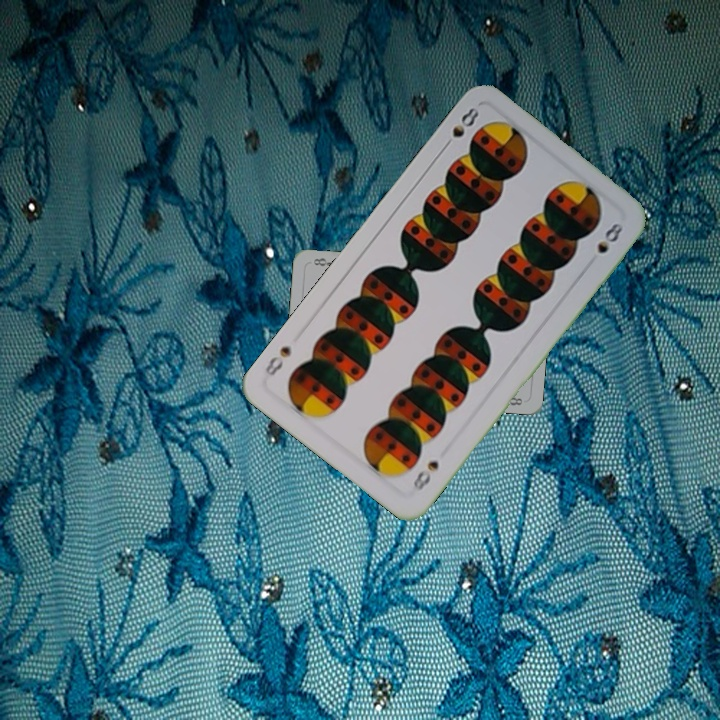S8: (438, 103, 482, 153), (408, 456, 442, 494)
